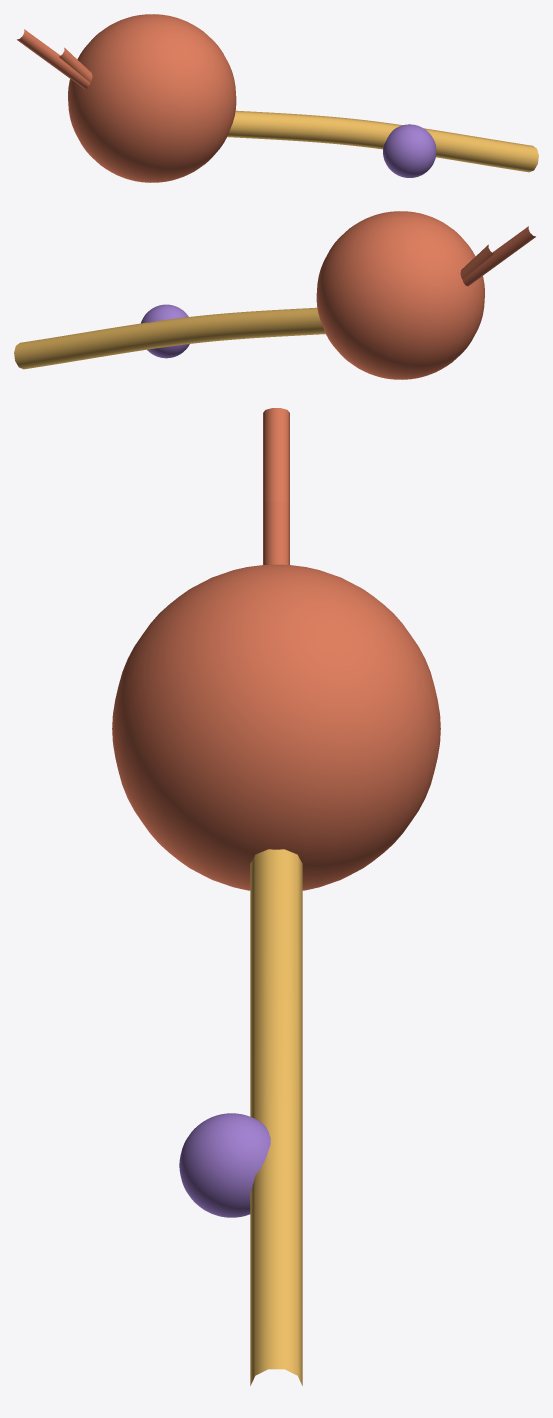
Rendered from physiology-nerve-signaling-neuron.glb.
The picture shows the model from 3 angles, top to bottom: view 1: azimuth 30°, elevation 25°; view 2: azimuth 150°, elevation 25°; view 3: azimuth 270°, elevation 25°; orthographic projection. The views are drawn at different scales.
Visible parts, largest first — view 1: soma-cell-body, axon-output-path, signal-pulse, dendrite-input-0, dendrite-input-1; view 2: soma-cell-body, axon-output-path, dendrite-input-0, signal-pulse, dendrite-input-1; view 3: soma-cell-body, axon-output-path, signal-pulse, dendrite-input-0, dendrite-input-1.
Boxes of the visible parts, box(x1,y1,x2,y2) form: soma-cell-body: box(68, 14, 236, 182); axon-output-path: box(227, 110, 538, 172); signal-pulse: box(383, 124, 436, 177); dendrite-input-0: box(17, 29, 90, 89); dendrite-input-1: box(59, 47, 92, 82); soma-cell-body: box(316, 211, 484, 379); axon-output-path: box(14, 307, 325, 369); dendrite-input-0: box(462, 226, 535, 286); signal-pulse: box(141, 304, 189, 358); dendrite-input-1: box(460, 244, 493, 279); soma-cell-body: box(112, 564, 440, 890); axon-output-path: box(250, 849, 302, 1385); signal-pulse: box(179, 1113, 270, 1217); dendrite-input-0: box(263, 408, 289, 504); dendrite-input-1: box(263, 501, 289, 564).
Size of what is drawn, in the model's own units: 1.56 by 0.7637 by 0.44.
